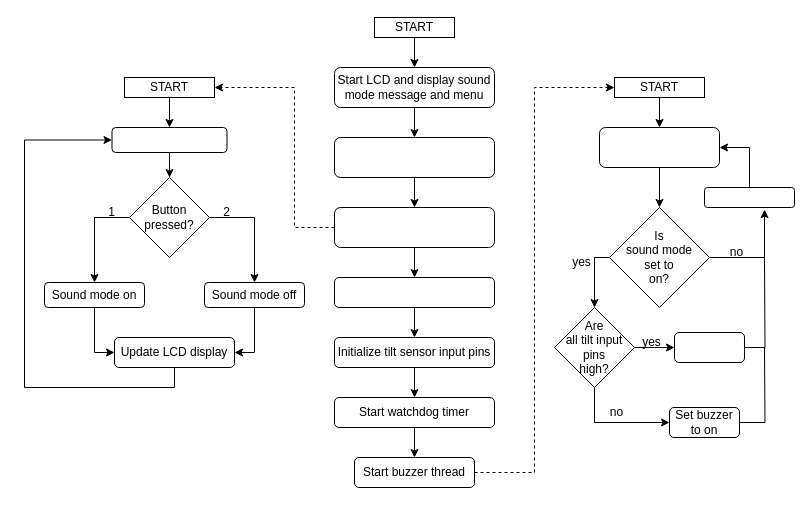
This 812x505 diagram has some shape labels left out. The shapes that lost their labels are listed below. From the top down, each one's centre as x and y in pixels, then its label:
At [169,139]: "Wait for button press".
At [414,157]: "Initialize keypad with rising and falling edge interrupts".
At [659,147]: "Kick watchdog timer".
At [749,197]: "Pause 10ms".
At [414,227]: "Start keypad EventQueue thread".
At [414,292]: "Initialize buzzer".
At [709,347]: "Set buzzer to off".
